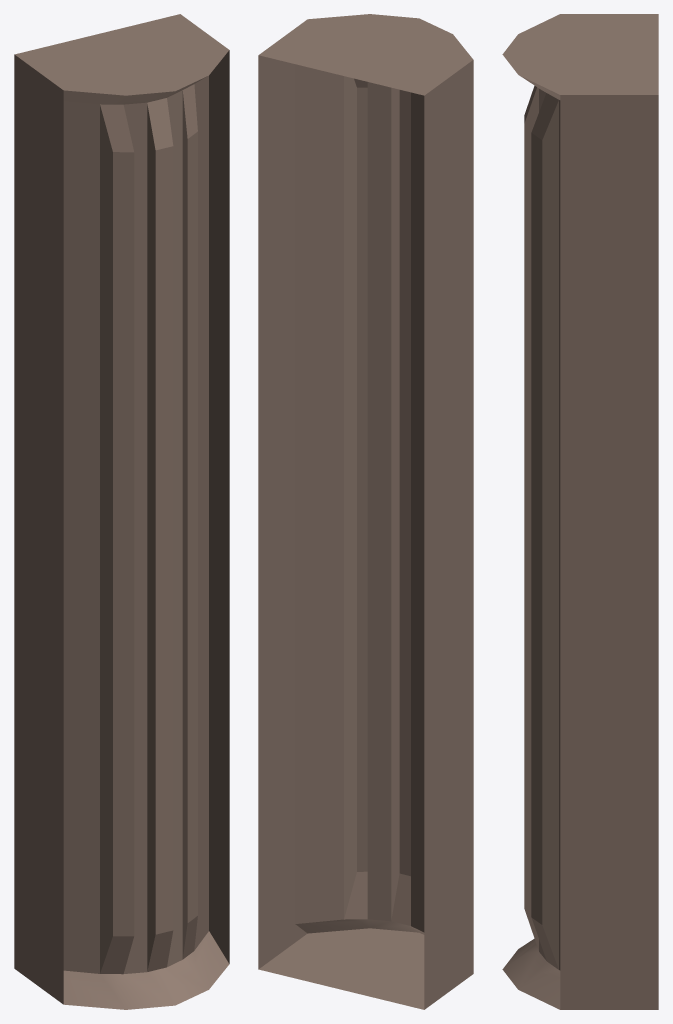
File: pillar_default_single.fbx
3 renders of one model, left to right at view 1: azimuth 30°, elevation 25°; view 2: azimuth 150°, elevation 25°; view 3: azimuth 270°, elevation 25°, orthographic.
Parts seen in each view (by area): view 1: Pillar_1_single; view 2: Pillar_1_single; view 3: Pillar_1_single.
Boxes of the visible parts, x1,y1,x2,y2 form: Pillar_1_single: (14,14,229,1009); Pillar_1_single: (258,14,473,1009); Pillar_1_single: (502,14,658,1009).
Size of the model in its own units: 1.37 by 7.22 by 1.12.
